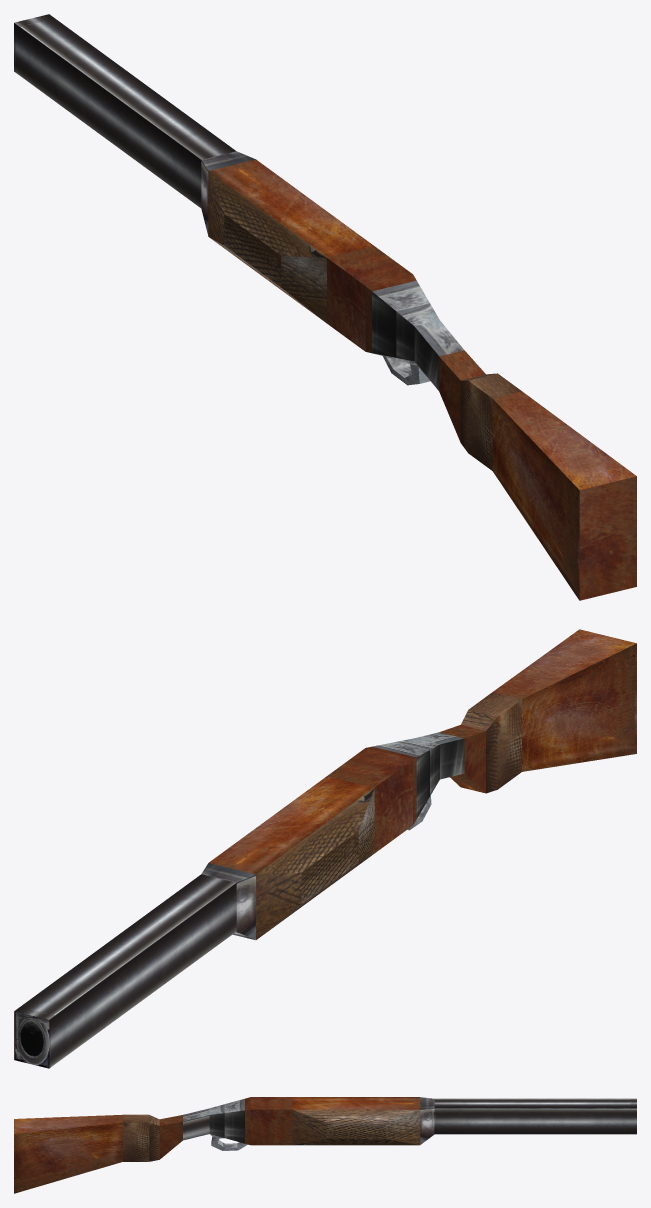
The model's file is Gun.fbx.
The picture shows the model from 3 angles, top to bottom: view 1: azimuth 30°, elevation 25°; view 2: azimuth 150°, elevation 25°; view 3: azimuth 270°, elevation 25°; orthographic projection. The views are drawn at different scales.
Parts seen in each view (by area): view 1: Gun; view 2: Gun; view 3: Gun.
Part boxes in pixels (x1,y1,x2,y2): Gun: (14, 14, 636, 600); Gun: (14, 629, 636, 1068); Gun: (14, 1097, 636, 1193).
Size of the model in its own units: 0.3511 by 0.6862 by 4.67.
